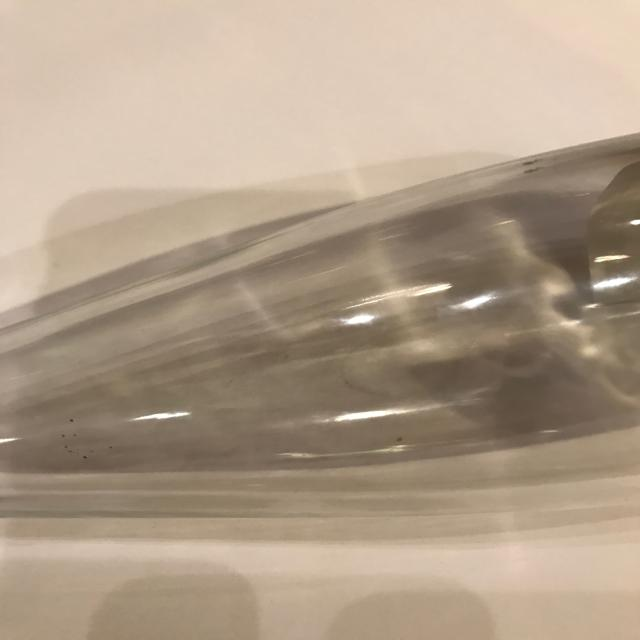glass: (1, 132, 639, 474)
